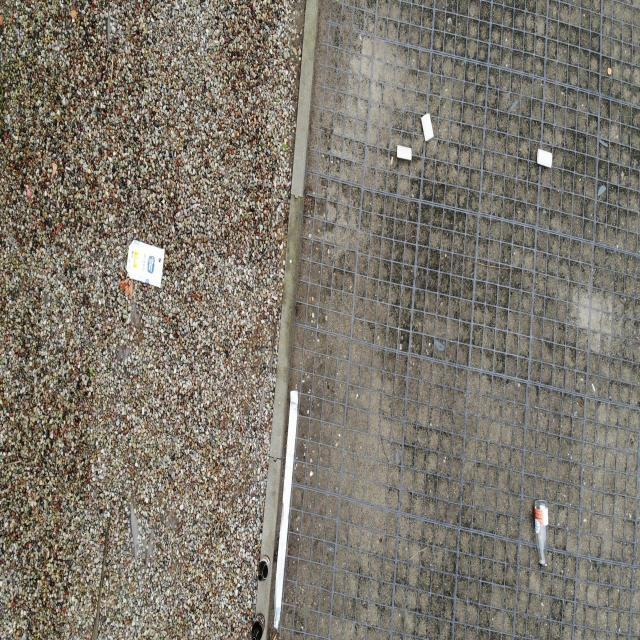rubbish: (126, 236, 166, 288), (534, 499, 548, 563), (420, 110, 435, 141), (536, 149, 552, 166), (397, 144, 412, 162)
